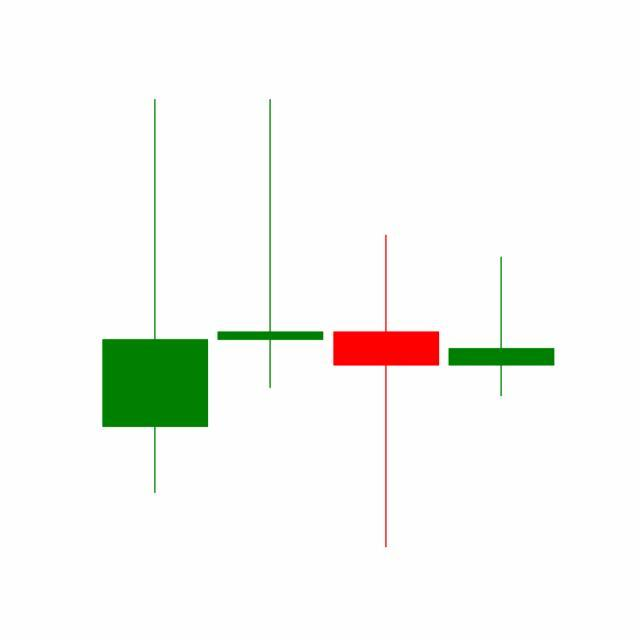Spinning Top: (329, 232, 445, 551)
